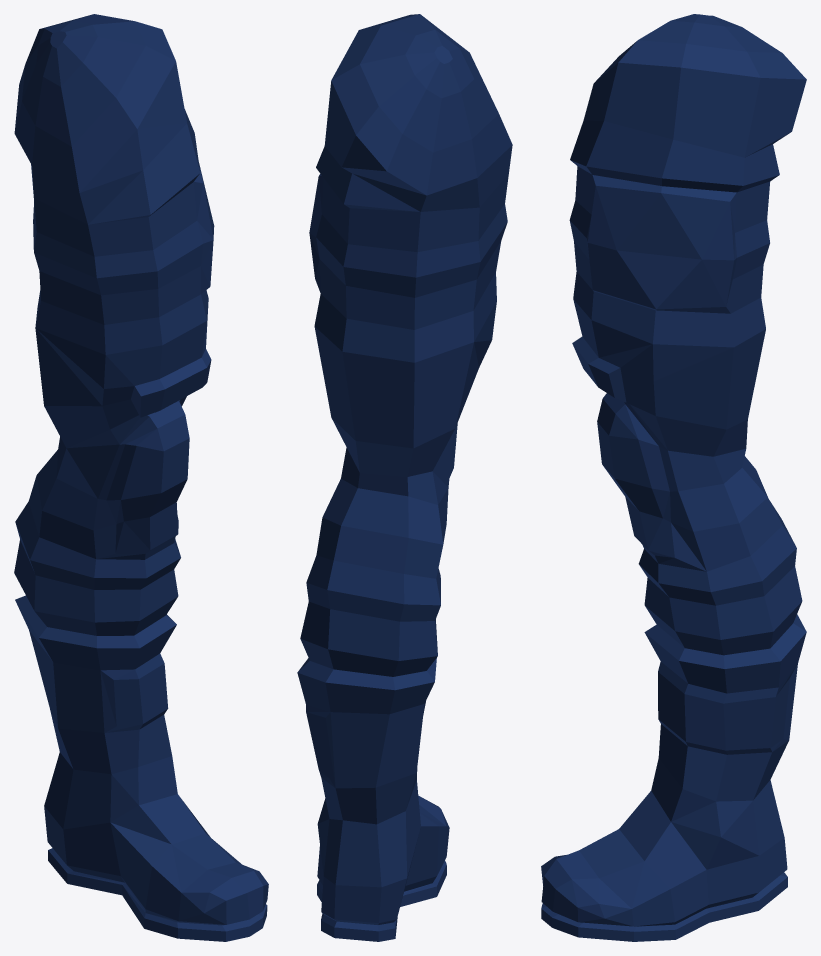
Rendered from left_leg.fbx.
3 views of the same model, side by side, from view 1: azimuth 30°, elevation 25°; view 2: azimuth 150°, elevation 25°; view 3: azimuth 270°, elevation 25° (orthographic). The views are drawn at different scales.
Parts seen in each view (by area): view 1: left_leg_thigh; view 2: left_leg_thigh; view 3: left_leg_thigh.
Boxes of the visible parts, left/top/right/bottom form: left_leg_thigh: left=14, top=14, right=268, bottom=941; left_leg_thigh: left=297, top=14, right=512, bottom=941; left_leg_thigh: left=541, top=14, right=806, bottom=941.
Size of the model in its own units: 0.2342 by 1.07 by 0.2984.
